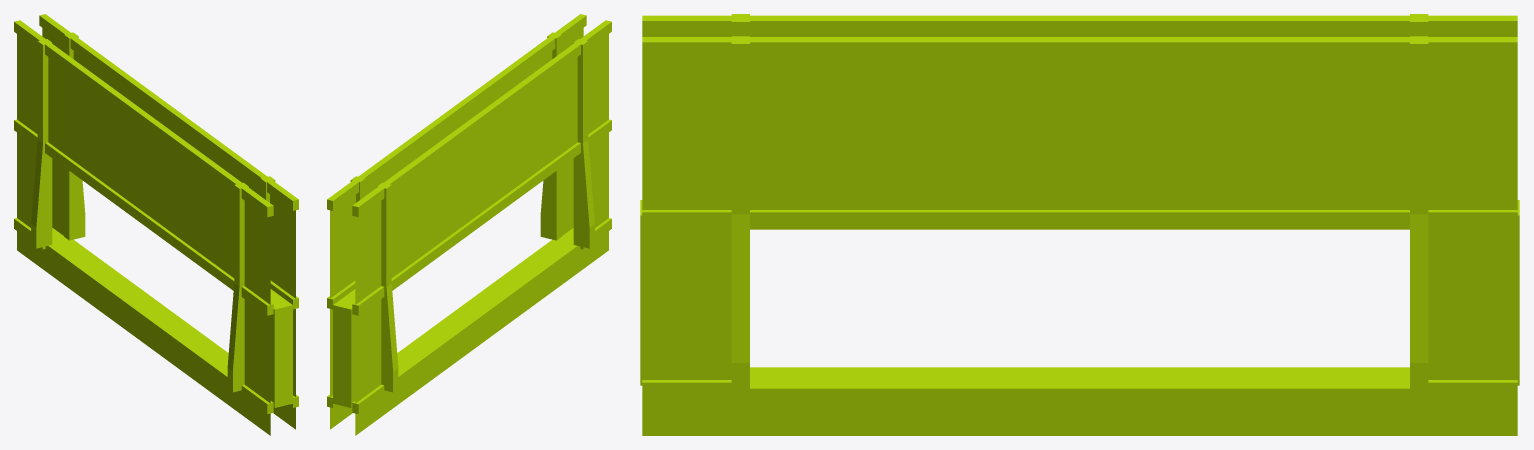
Rendered from DoorFIx.fbx.
The picture shows the model from 3 angles, left to right: view 1: azimuth 30°, elevation 25°; view 2: azimuth 150°, elevation 25°; view 3: azimuth 270°, elevation 25°; orthographic projection. The views are drawn at different scales.
Parts seen in each view (by area): view 1: DoorBigFrame; view 2: DoorBigFrame; view 3: DoorBigFrame.
Boxes of the visible parts, x1,y1,x2,y2 form: DoorBigFrame: (14,14,298,435); DoorBigFrame: (327,14,611,435); DoorBigFrame: (640,14,1519,435).
Bounding box in the file's own units: 155 × 694 × 1396.
